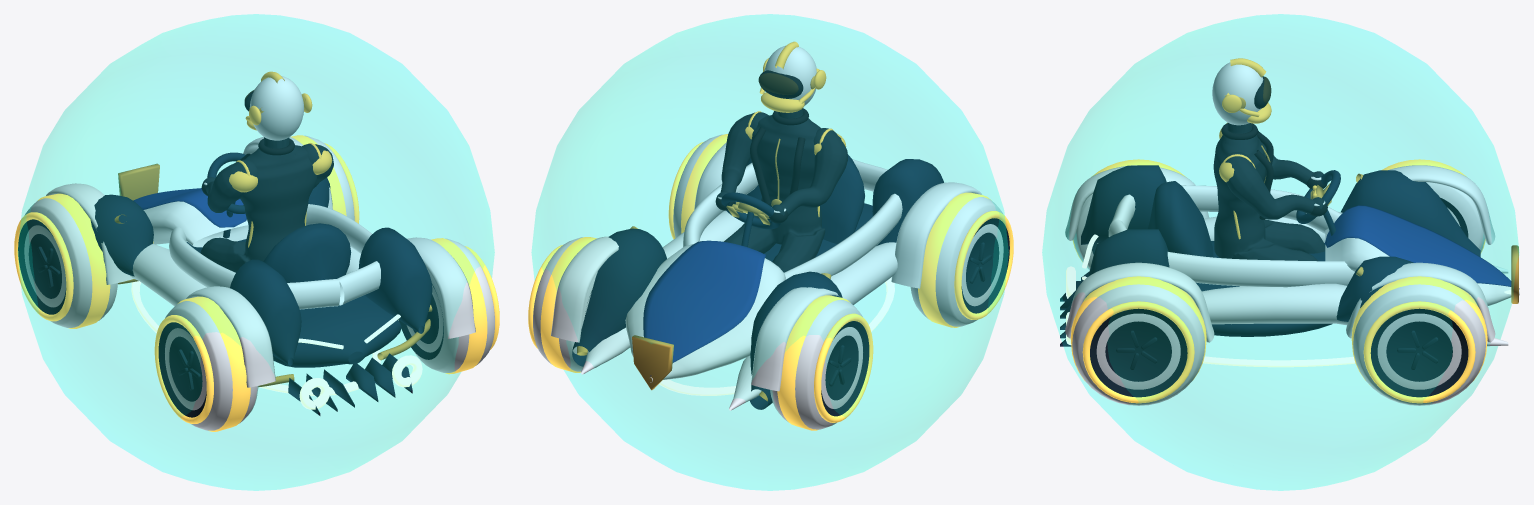
File: juris.glb
3 renders of one model, left to right at view 1: azimuth 30°, elevation 25°; view 2: azimuth 150°, elevation 25°; view 3: azimuth 270°, elevation 25°, orthographic.
Parts seen in each view (by area): view 1: juris:aegis-shield, juris:coachwork-batch, juris:coachwork-batch.001, juris:torso, juris:rounded-wheel-shell, juris:rounded-wheel-shell.002, juris:rounded-wheel-shell.003, juris:helmet-shell, juris:translucent-tire-band.002, juris:recessed-colored-hub.002, juris:recessed-colored-hub, juris:translucent-tire-band (+14 smaller); view 2: juris:aegis-shield, juris:coachwork-batch.001, juris:coachwork-batch, juris:bonnet-enamel-inlay, juris:torso, juris:rounded-wheel-shell, juris:rounded-wheel-shell.002, juris:arm-l-mesh, juris:translucent-tire-band, juris:translucent-tire-band.002, juris:recessed-colored-hub.002, juris:recessed-colored-hub (+16 smaller); view 3: juris:aegis-shield, juris:coachwork-batch.001, juris:coachwork-batch, juris:torso, juris:rounded-wheel-shell.003, juris:rounded-wheel-shell.001, juris:bonnet-enamel-inlay, juris:recessed-colored-hub.003, juris:recessed-colored-hub.001, juris:arm-r-mesh, juris:wheel-light-ring.001, juris:wheel-light-ring.003 (+9 smaller).
Boxes of the visible parts, box(x1,y1,x2,y2) form: juris:aegis-shield: box(17, 14, 494, 490); juris:coachwork-batch: box(90, 177, 432, 415); juris:coachwork-batch.001: box(46, 136, 475, 387); juris:torso: box(200, 137, 317, 272); juris:rounded-wheel-shell: box(24, 198, 117, 327); juris:rounded-wheel-shell.002: box(165, 301, 258, 430); juris:rounded-wheel-shell.003: box(406, 238, 494, 372); juris:helmet-shell: box(249, 76, 304, 140); juris:translucent-tire-band.002: box(177, 296, 250, 431); juris:recessed-colored-hub.002: box(158, 322, 206, 417); juris:recessed-colored-hub: box(18, 219, 66, 314); juris:translucent-tire-band: box(37, 193, 110, 328); juris:aegis-shield: box(531, 14, 1008, 490); juris:coachwork-batch.001: box(551, 142, 981, 410); juris:coachwork-batch: box(572, 154, 943, 409); juris:bonnet-enamel-inlay: box(643, 240, 765, 376); juris:torso: box(724, 108, 825, 272); juris:rounded-wheel-shell: box(770, 300, 862, 429); juris:rounded-wheel-shell.002: box(910, 197, 1003, 326); juris:arm-l-mesh: box(772, 128, 847, 215); juris:translucent-tire-band: box(777, 295, 850, 430); juris:translucent-tire-band.002: box(918, 192, 991, 327); juris:recessed-colored-hub.002: box(961, 218, 1009, 313); juris:recessed-colored-hub: box(821, 321, 869, 416); juris:aegis-shield: box(1042, 14, 1519, 490); juris:coachwork-batch.001: box(1065, 165, 1519, 346); juris:coachwork-batch: box(1060, 165, 1480, 346); juris:torso: box(1213, 123, 1325, 261); juris:rounded-wheel-shell.003: box(1072, 284, 1204, 405); juris:rounded-wheel-shell.001: box(1353, 284, 1485, 405); juris:bonnet-enamel-inlay: box(1325, 205, 1519, 289); juris:recessed-colored-hub.003: box(1090, 308, 1187, 397); juris:recessed-colored-hub.001: box(1370, 308, 1468, 397); juris:arm-r-mesh: box(1223, 152, 1324, 219); juris:wheel-light-ring.001: box(1363, 301, 1475, 403); juris:wheel-light-ring.003: box(1082, 301, 1194, 403).
Size of the model in its own units: 4.3 by 4.3 by 4.3.
